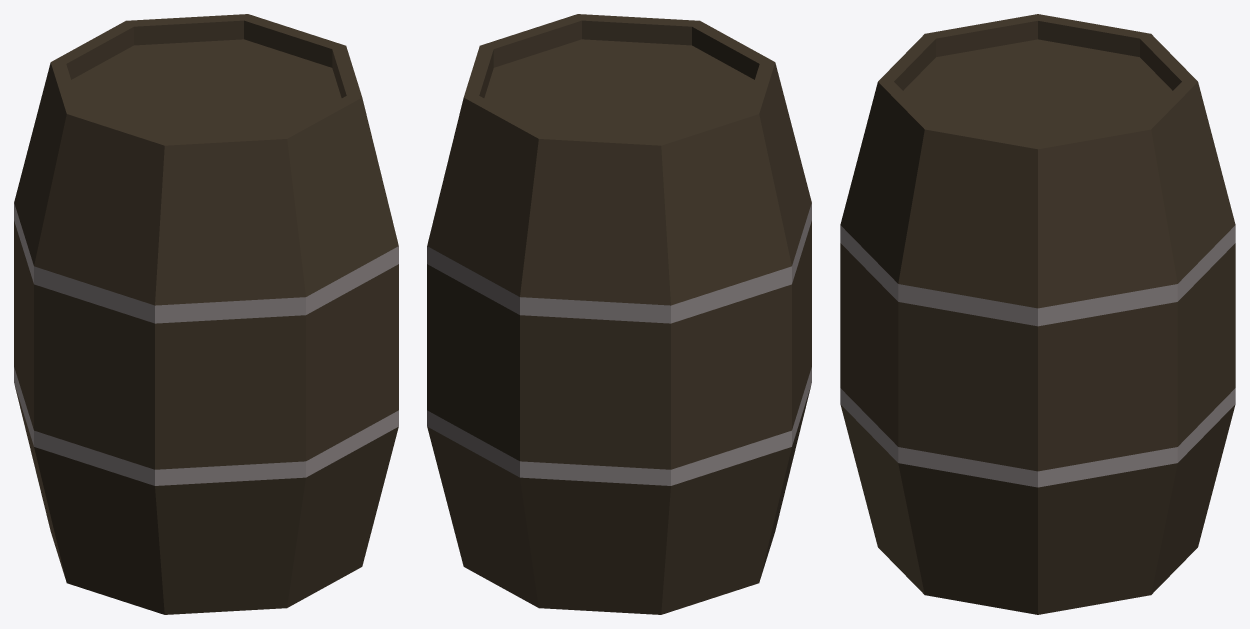
The model's file is roman_barrel.fbx.
3 views of the same model, side by side, from view 1: azimuth 30°, elevation 25°; view 2: azimuth 150°, elevation 25°; view 3: azimuth 270°, elevation 25° (orthographic).
Parts seen in each view (by area): view 1: Cylinder.010; view 2: Cylinder.010; view 3: Cylinder.010.
Part boxes in pixels (x1=…): Cylinder.010: x1=14, y1=14, x2=398, y2=614; Cylinder.010: x1=427, y1=14, x2=811, y2=614; Cylinder.010: x1=840, y1=14, x2=1235, y2=614.
Bounding box in the file's own units: 1.07 × 1.39 × 1.07.
1 material, 1 textured.
